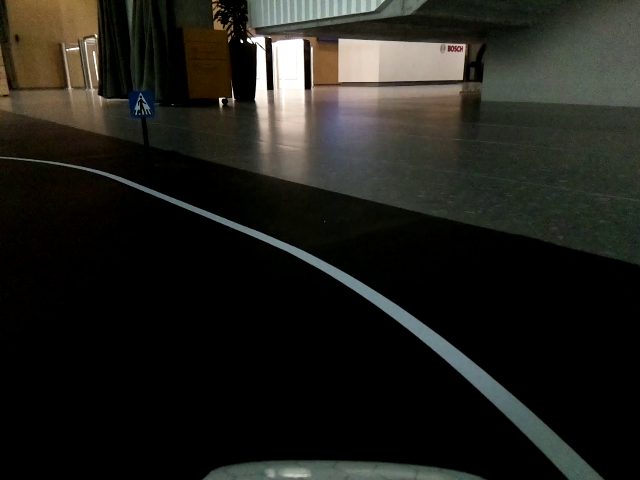pedestrians: (129, 91, 156, 119)
